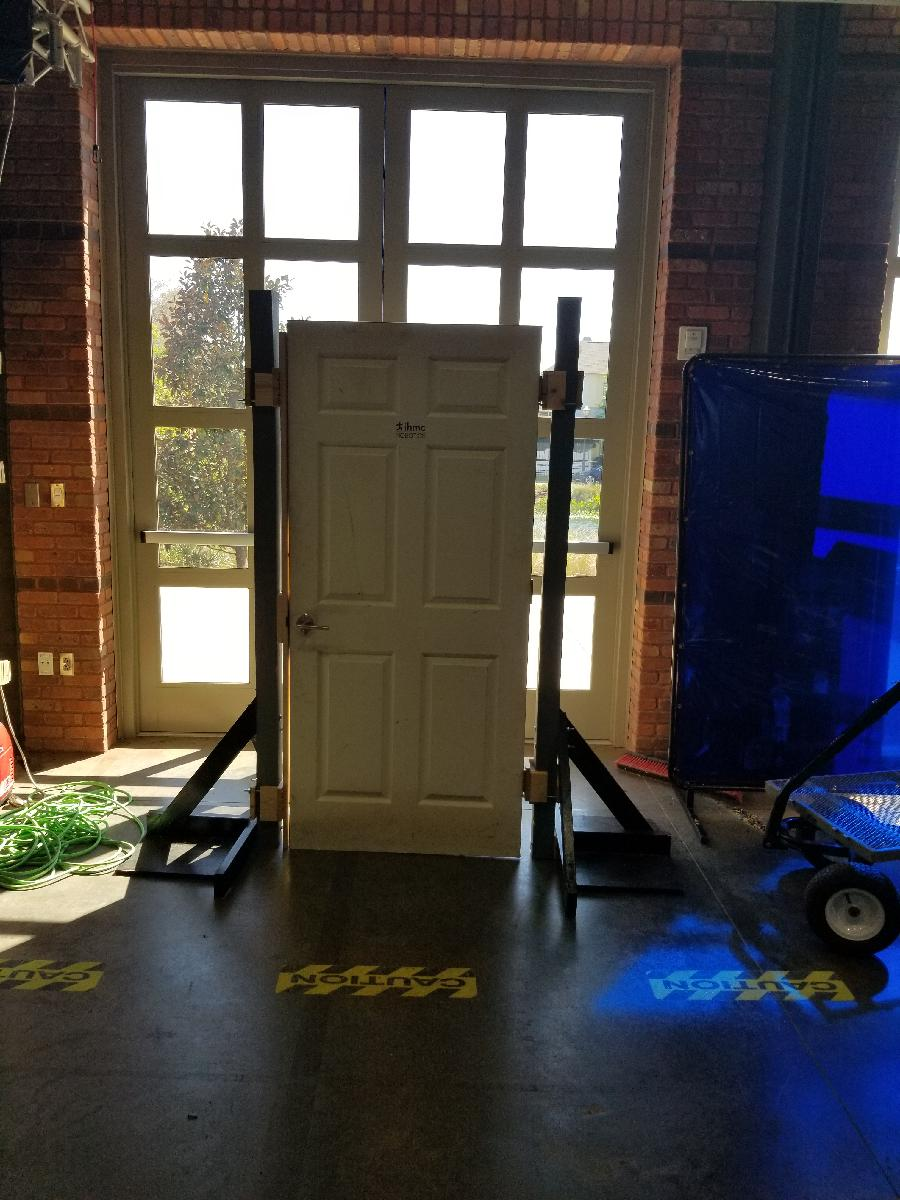door: (280, 317, 545, 861)
doorHandle: (278, 615, 334, 638)
